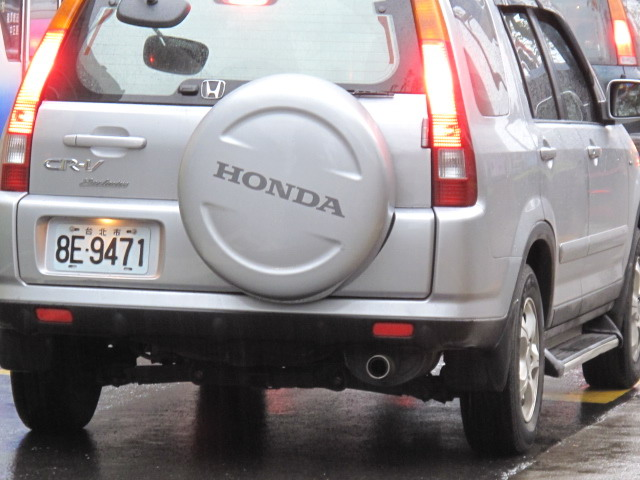plate: (53, 220, 150, 277)
